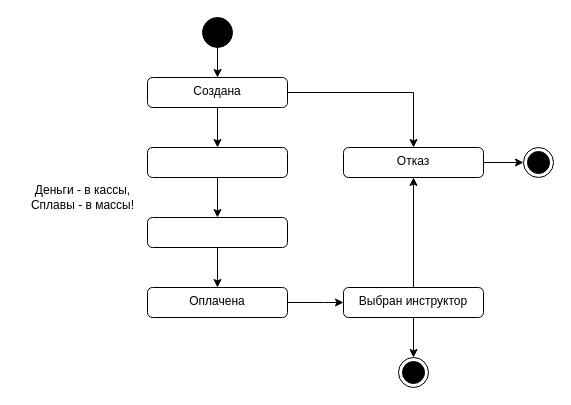
Image size: 571x405. Some labels were removed from this diagram. The box of each missing label's shape, as (x1, y1, x2, y2) in pixels:
Заполнена: (146, 146, 288, 178)
Ожидание оплаты: (146, 216, 288, 248)
